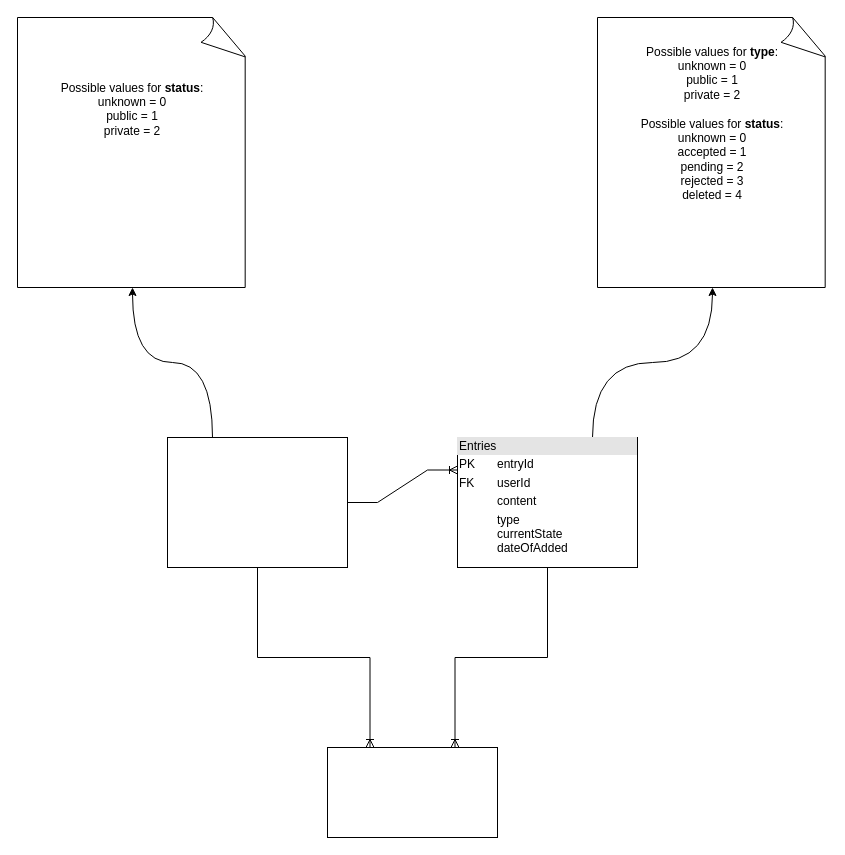
Image size: 845x855. Some labels were removed from this diagram. The centre of each missing label's shape, as x and y in pixels:
"LikeEntries FK1 userId FK2 entryId dateOfLike" goes at point 412,792.
"Users PK userId login password email emailConfirmStatus status" goes at point 257,502.
